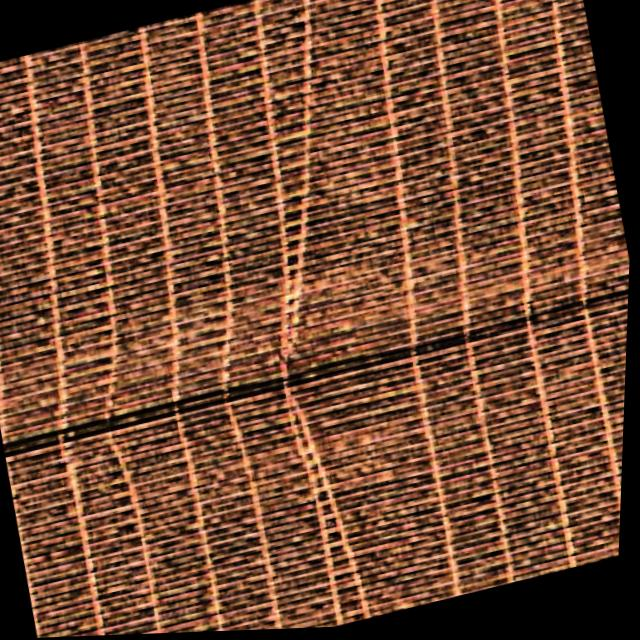Stitch: (211, 199, 421, 562)
